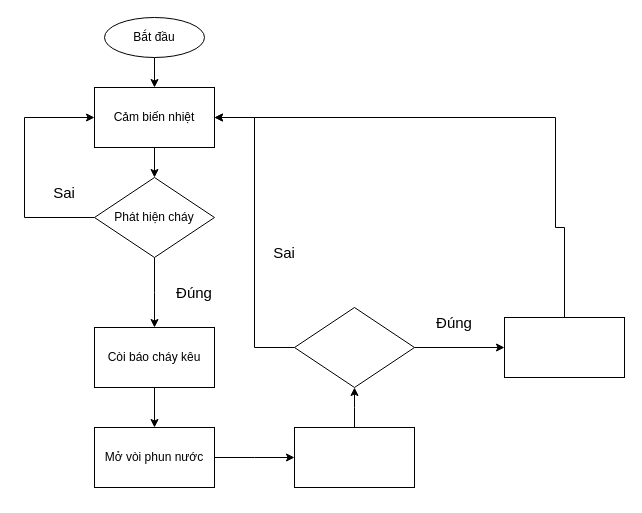
Image size: 642x513. Some labels were removed from this diagram. The centre of each missing label's shape, as x and y in pixels:
Email hợp lệ ?: point (354, 347)
Gửi Email tới mọi người: point (564, 347)
Đọc dữ liệu email: point (354, 457)
